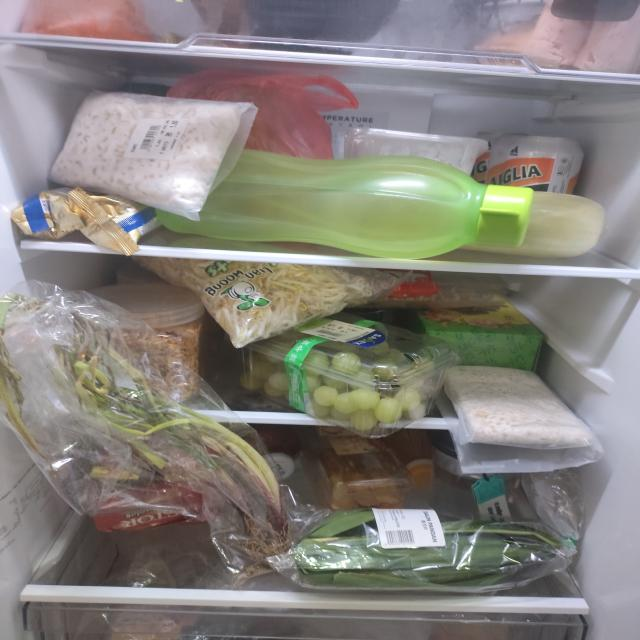bean_sprouts: (132, 255, 376, 349)
corn: (463, 190, 607, 258)
grape: (239, 329, 436, 432)
leafy_greens: (293, 507, 562, 592)
spring_onion: (0, 292, 289, 580)
tempeh: (48, 89, 243, 212), (444, 365, 593, 446)
